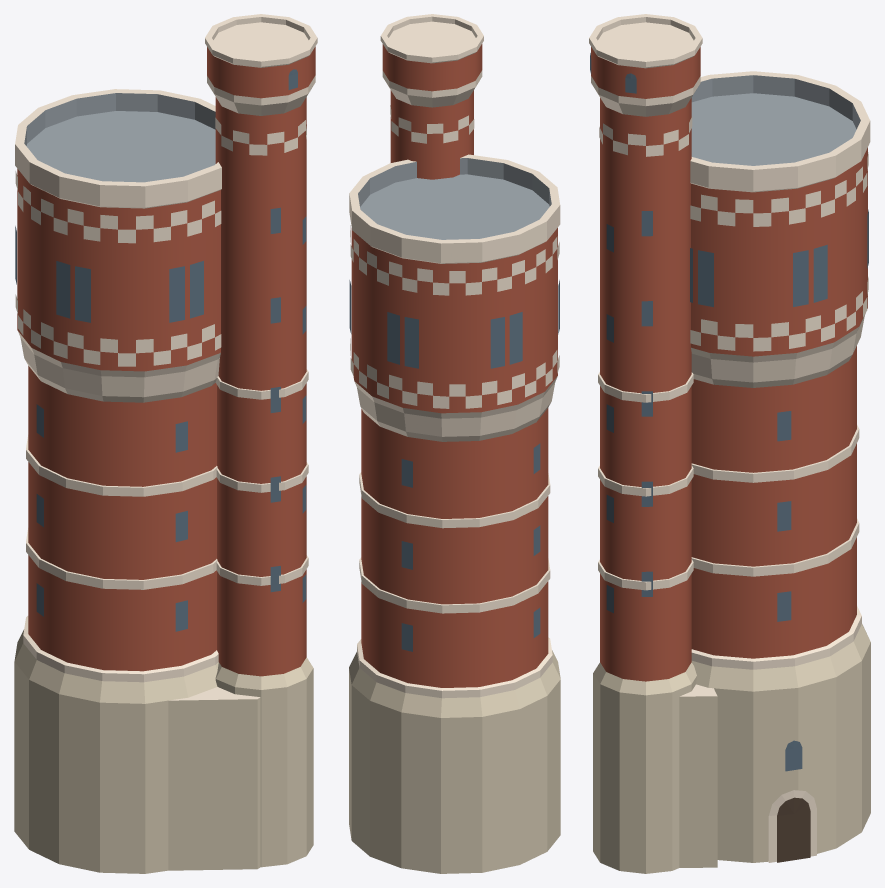
Rendered from cin-eden-park-stand-pipe.glb.
3 views of the same model, side by side, from view 1: azimuth 30°, elevation 25°; view 2: azimuth 150°, elevation 25°; view 3: azimuth 270°, elevation 25° (orthographic). The views are drawn at different scales.
Visible parts, largest first — view 1: Eden Park Stand Pipe; view 2: Eden Park Stand Pipe; view 3: Eden Park Stand Pipe.
Boxes of the visible parts, <box> form: Eden Park Stand Pipe: <box>14,14,317,873</box>; Eden Park Stand Pipe: <box>349,14,560,873</box>; Eden Park Stand Pipe: <box>589,14,870,873</box>.
Bounding box in the file's own units: 13.3 × 45.1 × 14.15.
